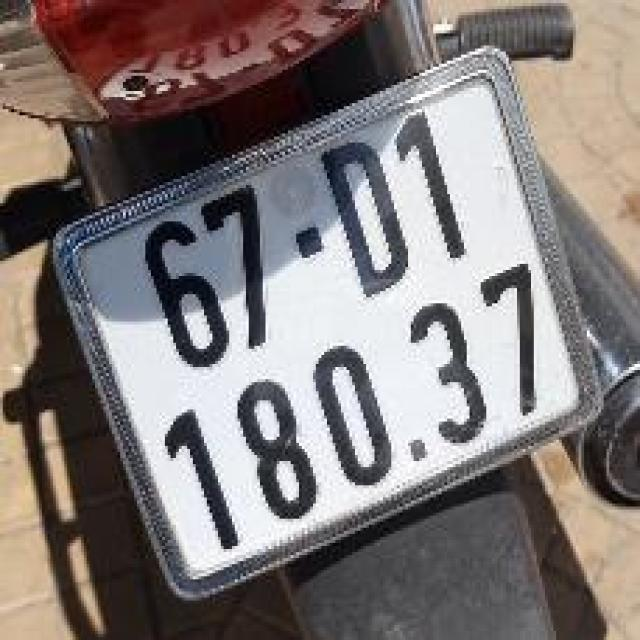0: (301, 325, 415, 507)
1: (149, 387, 265, 569), (385, 89, 495, 278)
3: (390, 282, 502, 464)
6: (134, 200, 242, 376)
7: (191, 170, 295, 368), (472, 243, 572, 437)
8: (221, 360, 339, 539)
D: (311, 118, 428, 316)
